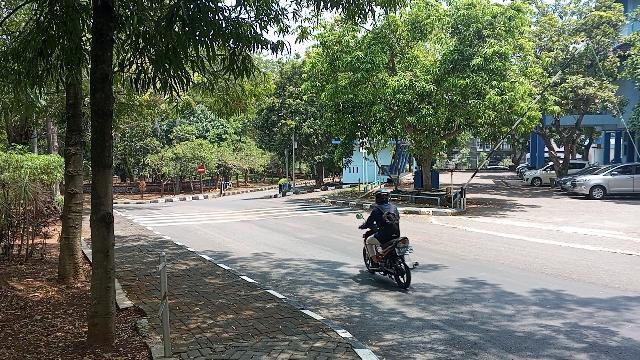helm: (375, 190, 391, 207)
motor: (358, 214, 421, 292)
